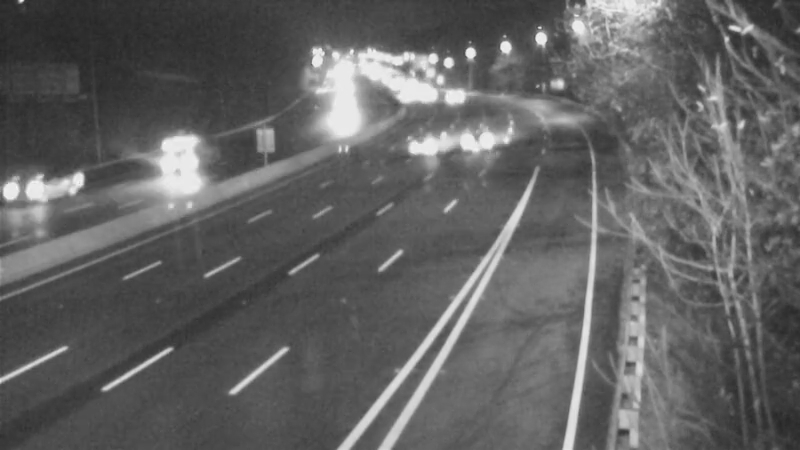vehicle: (142, 126, 222, 206), (1, 153, 75, 233), (427, 66, 477, 116), (447, 112, 497, 162), (402, 116, 452, 166), (320, 97, 370, 147)
